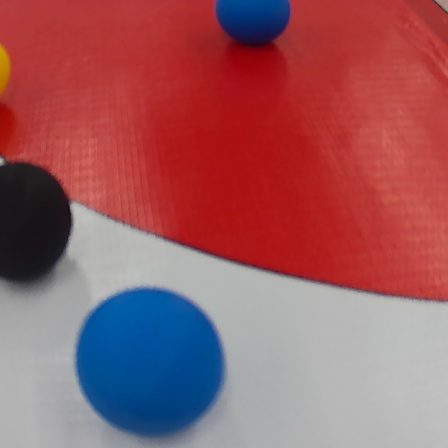black: (1, 154, 73, 284)
blue: (76, 279, 226, 447), (215, 1, 291, 45)
red_base: (0, 0, 445, 309)
